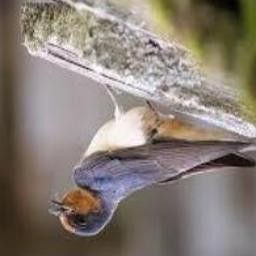Swallow: (47, 84, 256, 235)
